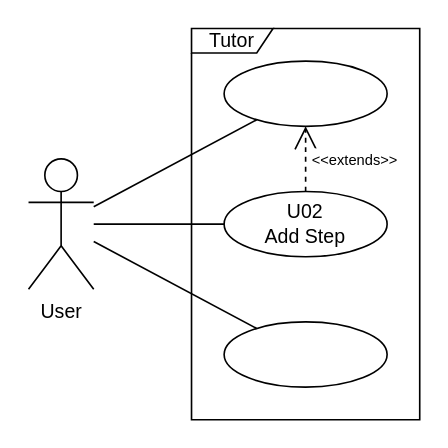
Some shapes in this 448 by 448 pixel diagram are drawn without their labels. Each missing label, with the centre of its shape:
"U01 Create Course" belongs at [304,92].
"U03 View Course" belongs at [304,353].
